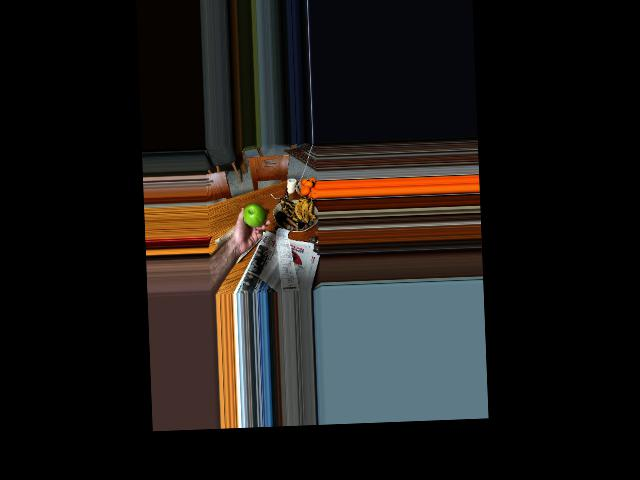apple: (242, 202, 266, 229)
